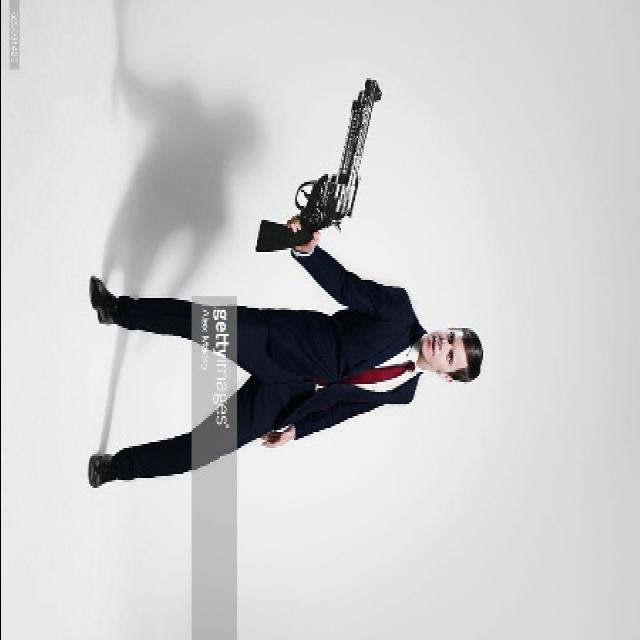handgun: (250, 61, 391, 257)
